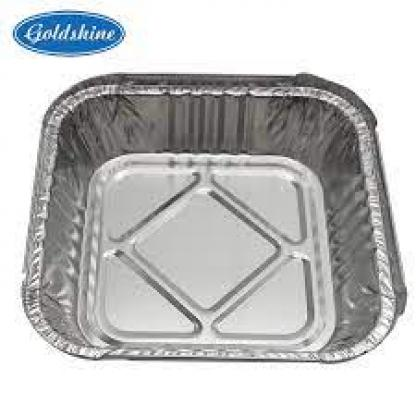METAL: (22, 70, 405, 361)
